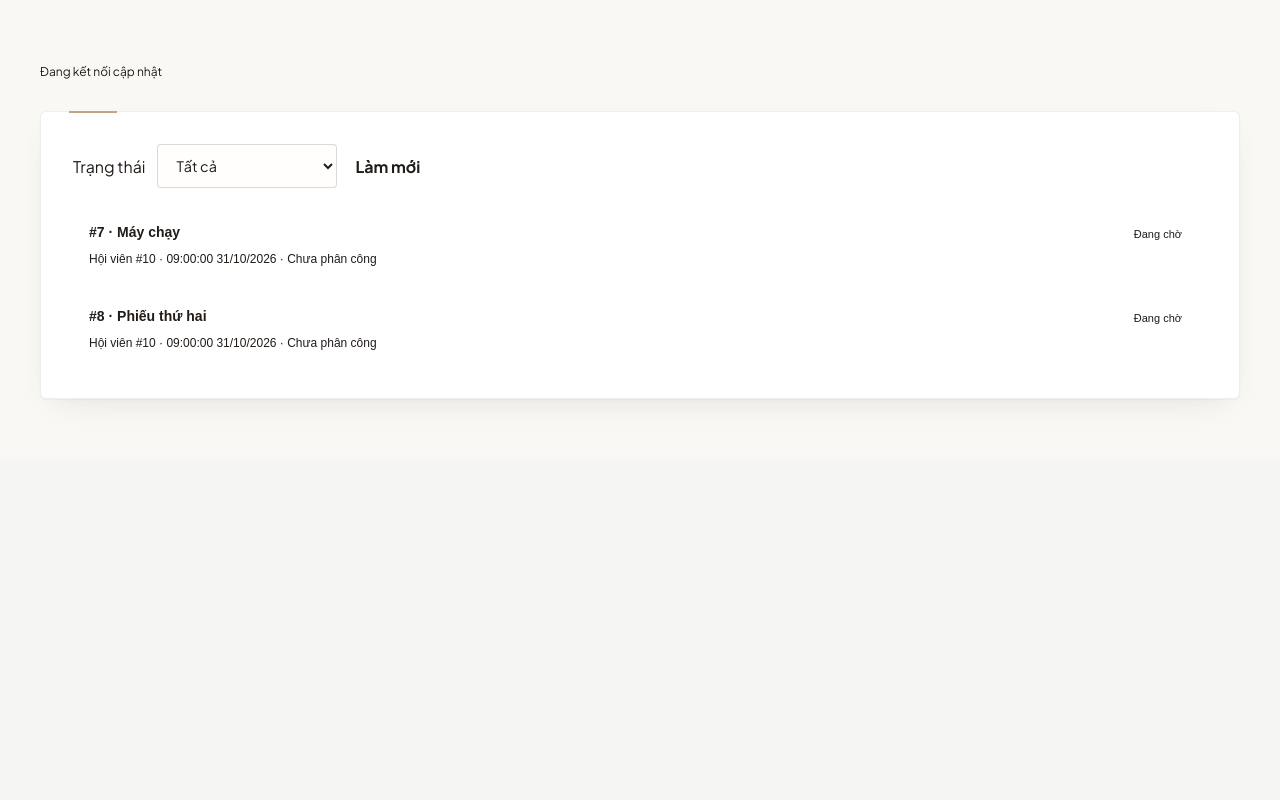
Test case: rejects stale history after closing and opening a different ticket
What coordinates should you click on to do the following:
click the button with class "member-support-ticket" that starts with "Máy chạy"
I would click on:
 (149, 232)
Its box is [73,208,1207,282].
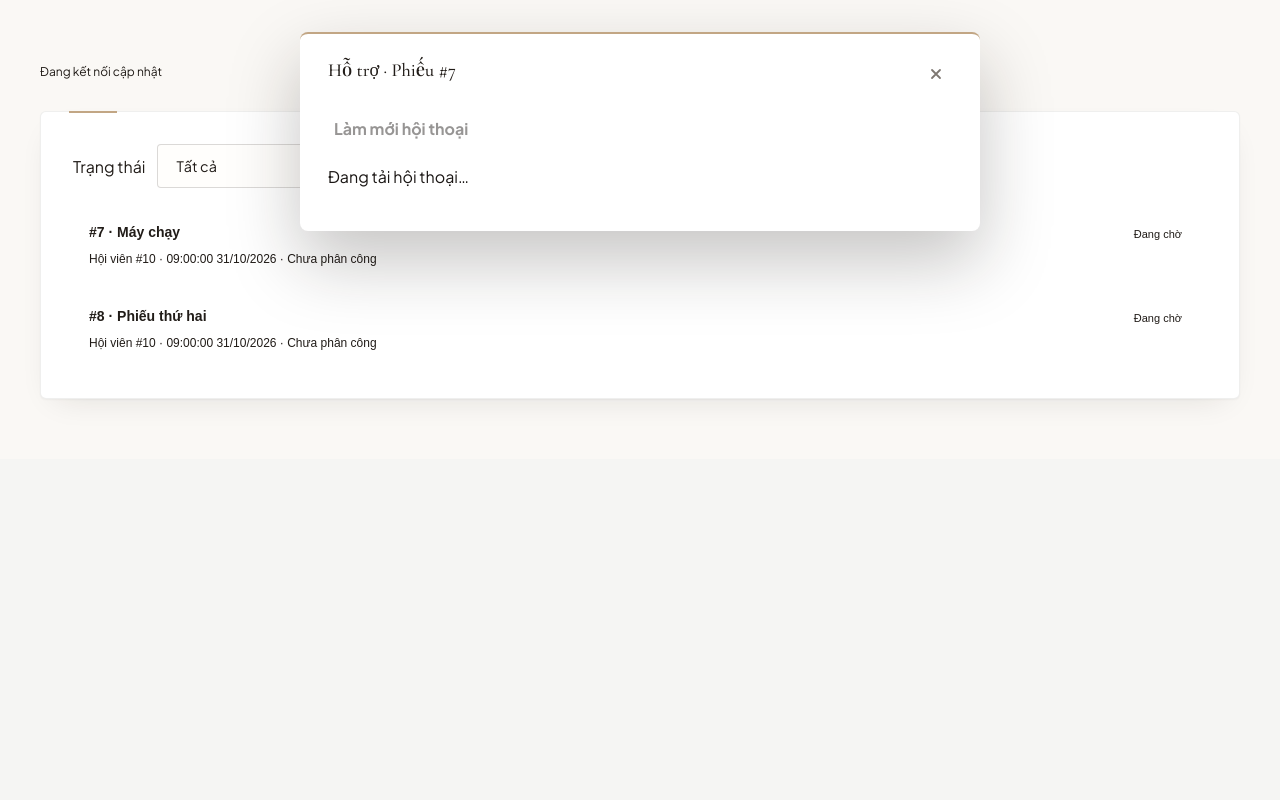
What coordinates should you click on to do the following:
click the button named "Đóng hộp thoại"
I would click on:
 (936, 74)
Its box is [920,58,952,90].
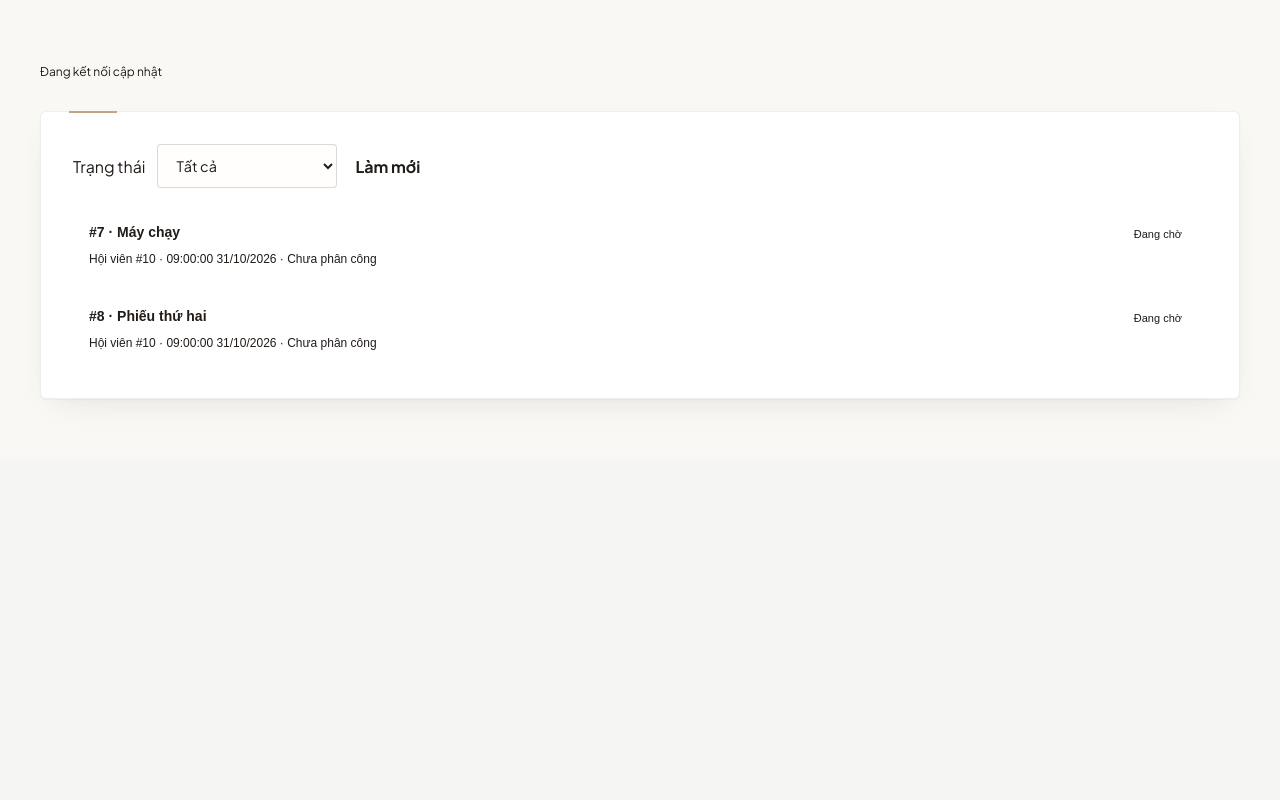
What coordinates should you click on to do the following:
click the button with class "member-support-ticket" that starts with "Phiếu thứ hai"
I would click on:
 (162, 316)
Its box is [73,292,1207,366].
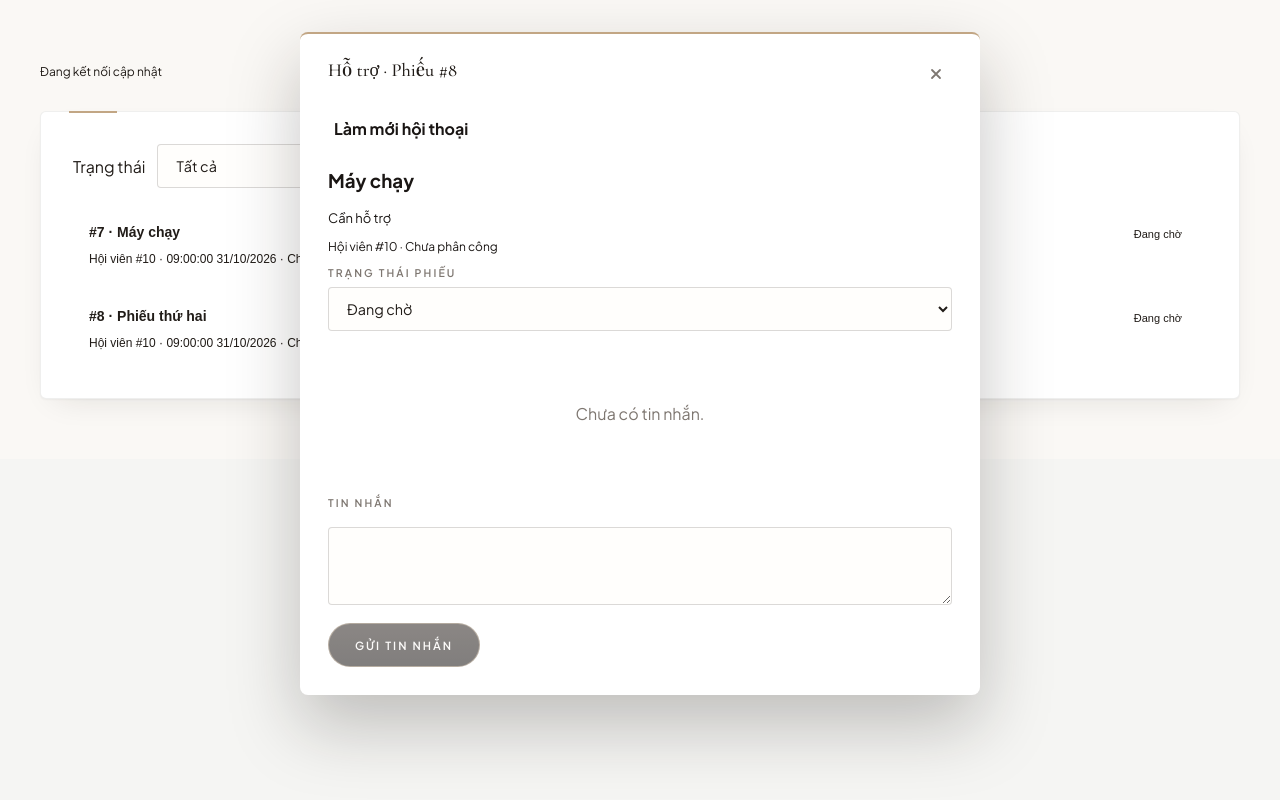
Now the dialog shows "#8", box [328,59,457,81]
